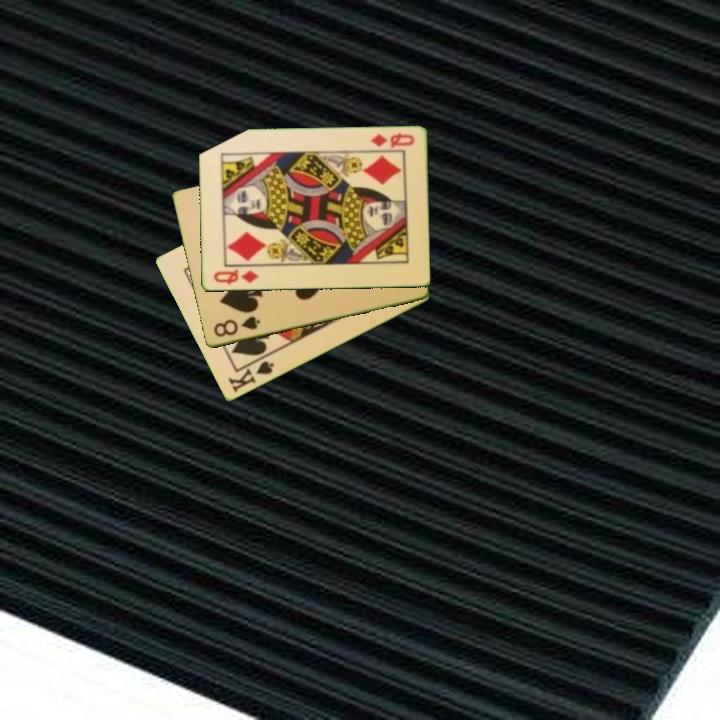8s: (210, 313, 263, 340)
Ks: (224, 352, 277, 396)
Qd: (210, 266, 261, 287), (367, 130, 417, 151)
